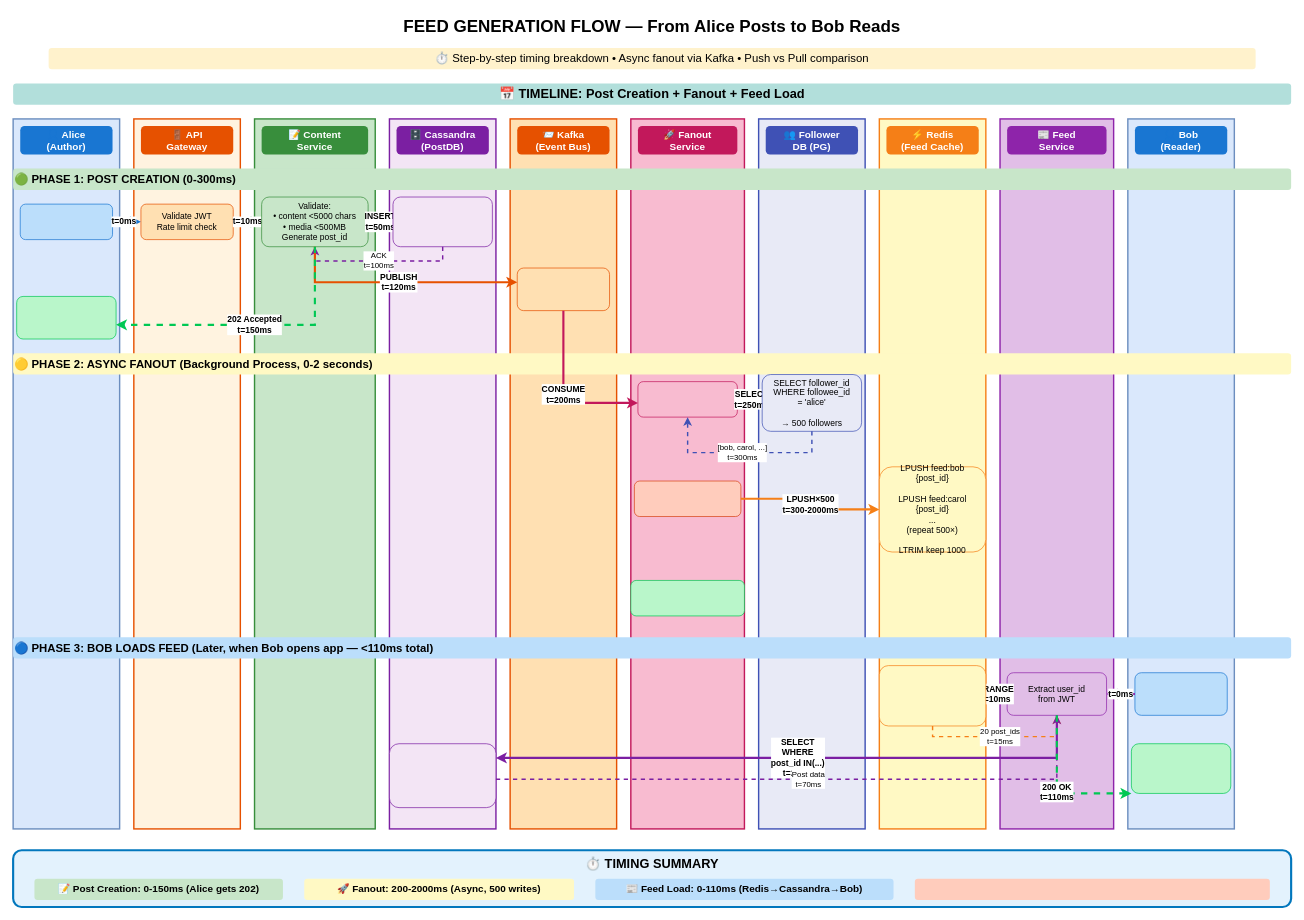
Some shapes in this 1304 by 920 pixel diagram are drawn without their labels. The box of each missing label's shape, as (x1, y1, x2, y2) in pixels:
FOR EACH follower: (500 iterations): (634, 480, 741, 517)
GET /api/v1/ posts/feed ?limit=20: (1134, 672, 1227, 715)
INSERT INTO posts (user_id, post_id, content, media_urls): (392, 196, 492, 247)
LRANGE feed:bob 0 19 → [post_123, post_122, post_121, ...]: (879, 665, 986, 726)
POST /api/v1/posts {content, media}: (20, 203, 113, 240)
Read event Extract user_id: (637, 381, 737, 417)
SELECT * FROM posts WHERE post_id IN (...) → 20 full posts (content, media): (389, 743, 496, 808)
Topic: post.created {post_id, user_id, created_at}: (517, 267, 610, 311)
⚡ KEY INSIGHT: Feed read is INSTANT (<10ms Redis) because fanout PRE-BUILT it!: (914, 878, 1269, 900)
✅ FANOUT COMPLETE Bob's feed is now pre-built!: (630, 580, 744, 616)
✅ Feed loaded! [20 posts with content, media, author info]: (1131, 743, 1231, 793)
✅ Post accepted (fanout happening async in background): (16, 296, 116, 339)
